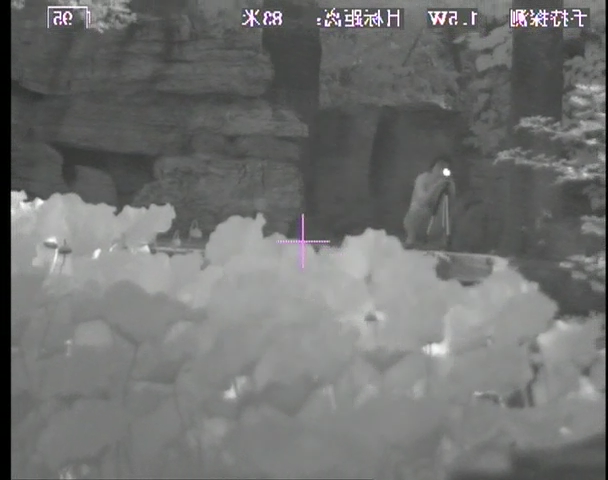my: (441, 166, 452, 178)
